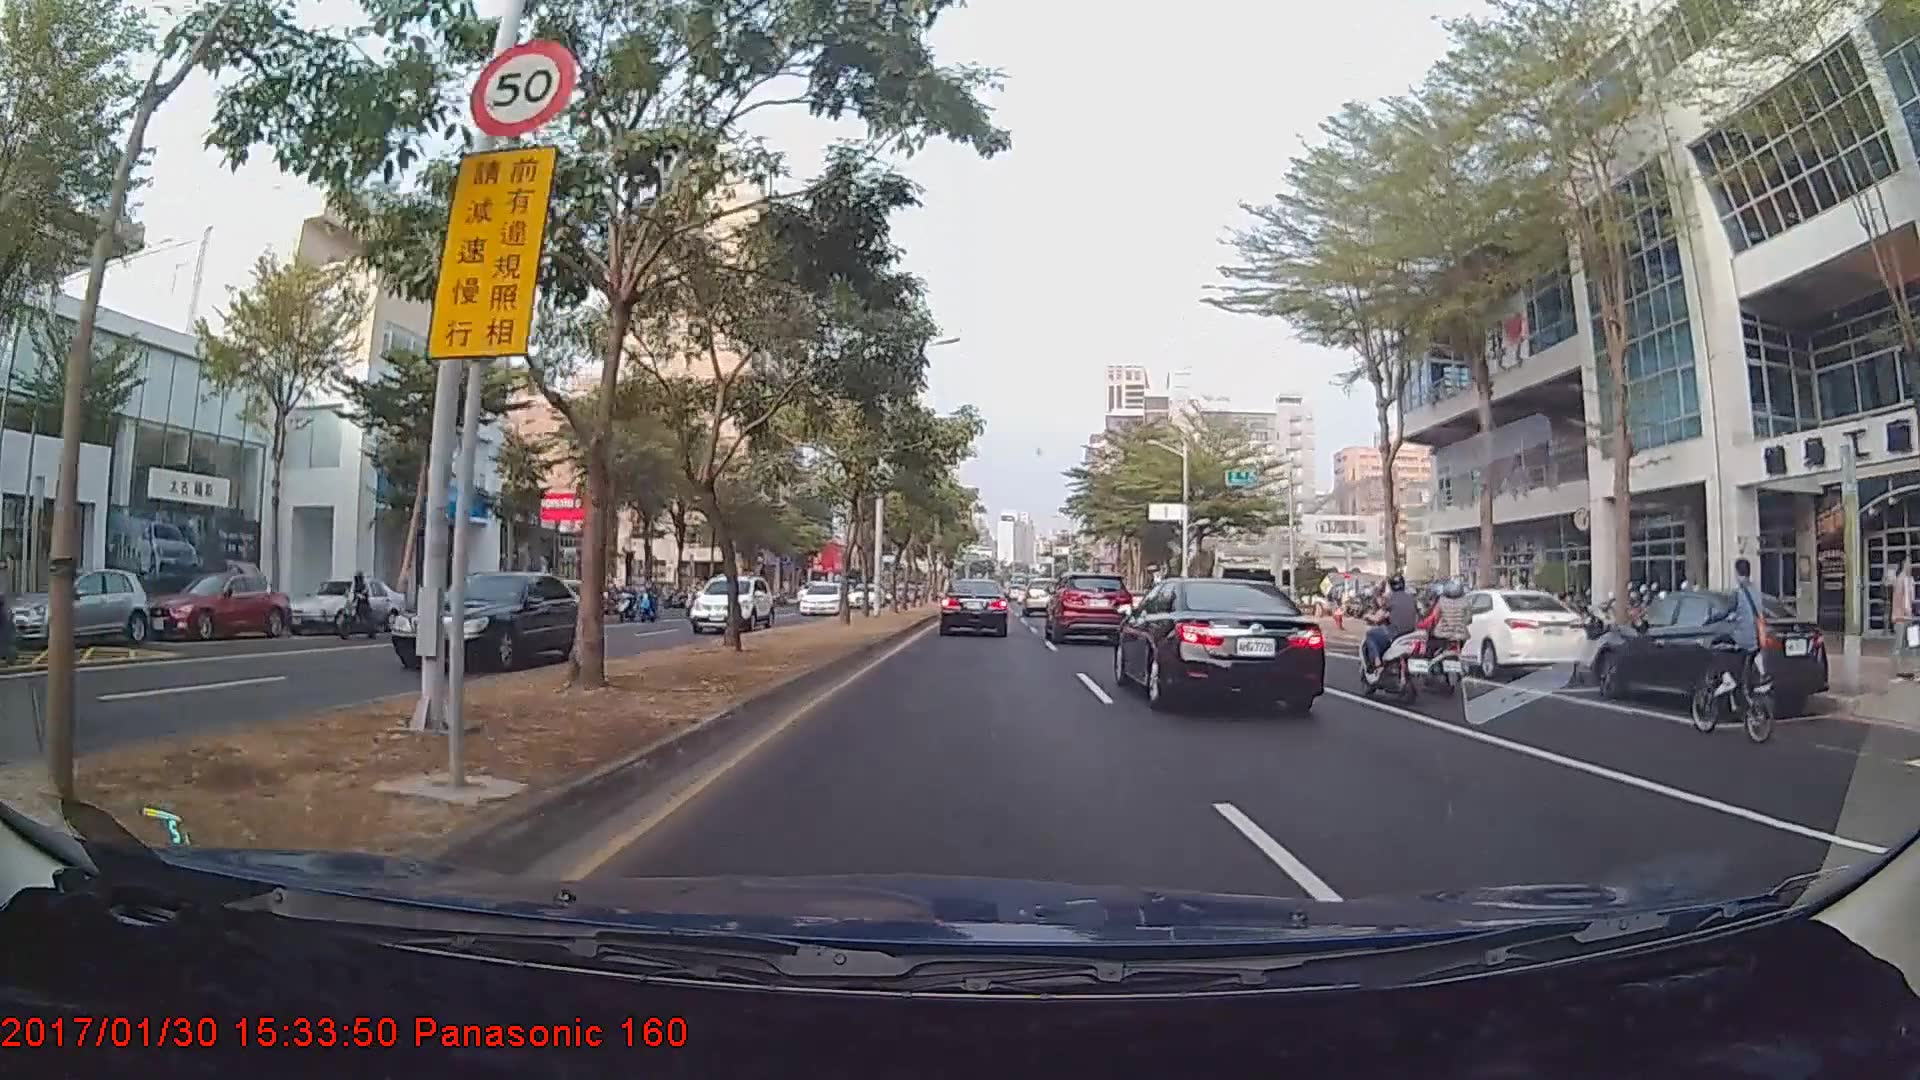pedestrian: (1891, 557, 1920, 685)
rider: (1678, 566, 1800, 755), (1359, 572, 1446, 712), (1420, 578, 1481, 691), (331, 572, 386, 642)
vehicle: (1598, 586, 1832, 722), (1120, 570, 1323, 714), (388, 567, 594, 675), (1430, 587, 1585, 680), (2, 570, 147, 646), (143, 570, 292, 640), (283, 576, 407, 636), (1048, 571, 1128, 645), (688, 574, 776, 636), (937, 577, 1010, 638), (798, 578, 845, 617), (1023, 580, 1054, 616)
